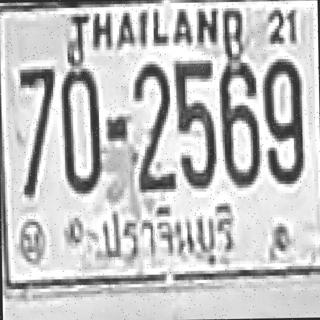N00: (59, 65, 100, 191)
N02: (132, 59, 174, 191)
N05: (173, 57, 214, 186)
N06: (216, 59, 258, 185)
N07: (18, 66, 54, 194)
N09: (262, 55, 303, 181)
P49: (97, 200, 241, 271)
